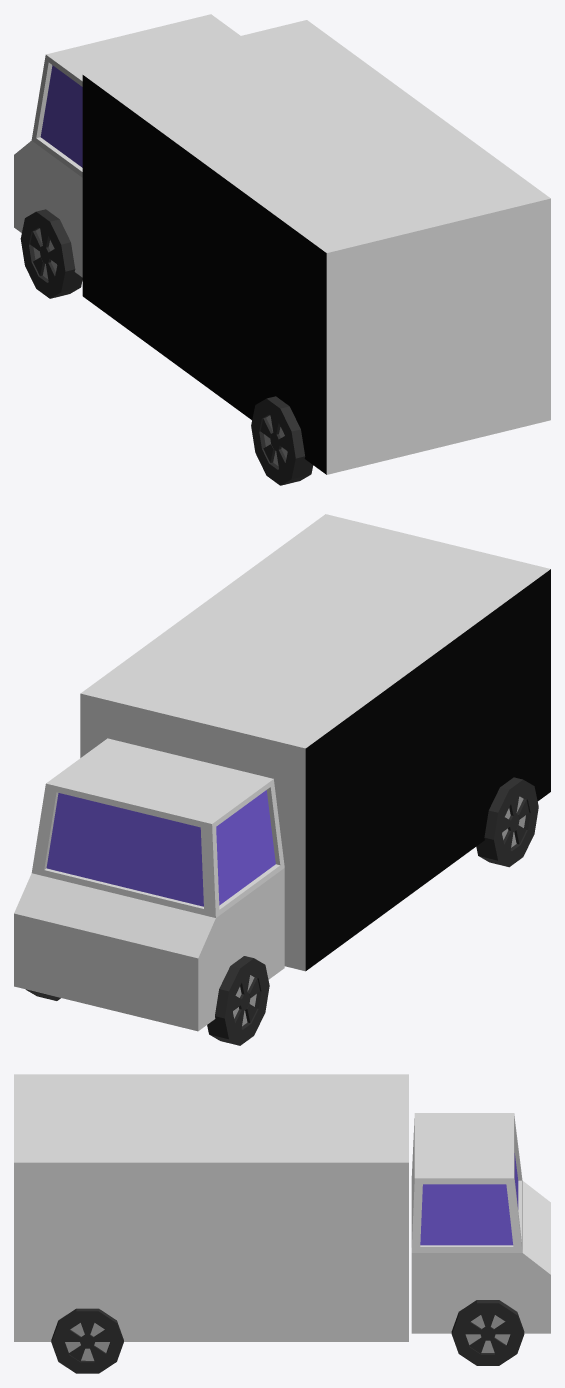
Rendered from camion 2.fbx.
3 renders of one model, top to bottom at view 1: azimuth 30°, elevation 25°; view 2: azimuth 150°, elevation 25°; view 3: azimuth 270°, elevation 25°, orthographic. The views are drawn at different scales.
Parts seen in each view (by area): view 1: Cube.014, Cube.005, ROUE.001, ROUE; view 2: Cube.014, Cube.005, ROUE.001, ROUE; view 3: Cube.014, Cube.005, ROUE.003, ROUE.002.
Part boxes in pixels (bbox=[...]): Cube.014: bbox=[82, 20, 550, 474]; Cube.005: bbox=[14, 14, 240, 277]; ROUE.001: bbox=[20, 209, 82, 298]; ROUE: bbox=[251, 396, 313, 485]; Cube.014: bbox=[80, 514, 550, 971]; Cube.005: bbox=[14, 738, 284, 1031]; ROUE.001: bbox=[207, 956, 269, 1045]; ROUE: bbox=[476, 777, 538, 867]; Cube.014: bbox=[14, 1074, 408, 1341]; Cube.005: bbox=[411, 1113, 550, 1333]; ROUE.003: bbox=[451, 1300, 524, 1365]; ROUE.002: bbox=[51, 1308, 123, 1373].
Size of what is drawn, in the model's own units: 110 by 112 by 261.
